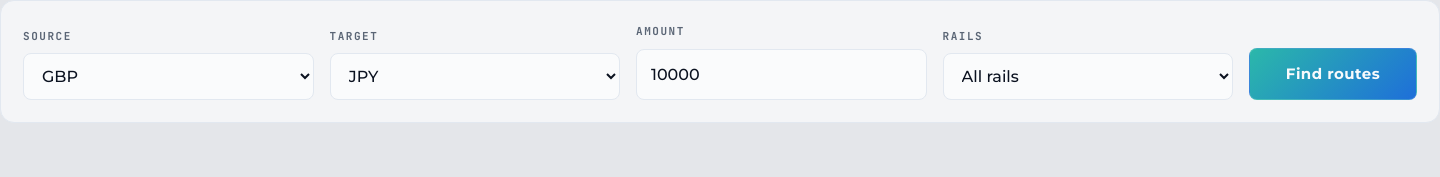
Test: RouteForm › blocks submission for non-positive amounts
Replace the text in the number field labelled "Amount" with "0": [781, 74] box [636,49,926,100]
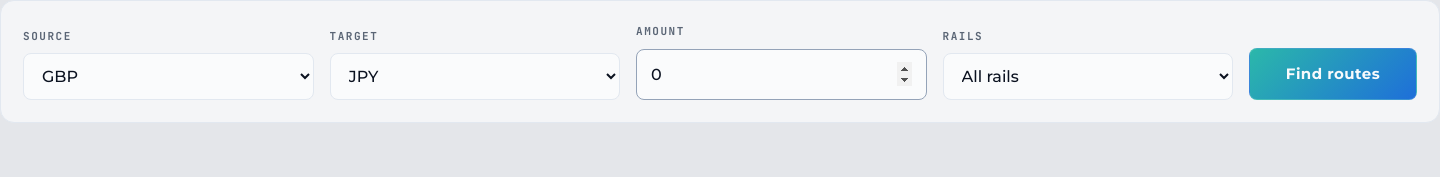
Click the button "Find routes": [1333, 74] box [1249,48,1417,100]
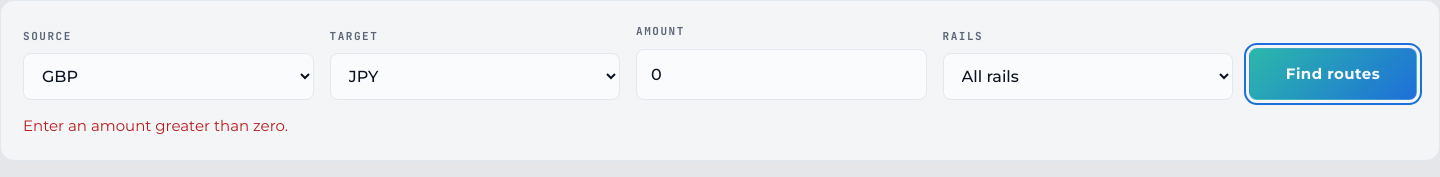
Check: the text "Enter an amount greater than zero." is shown, box [23,116,288,135]
